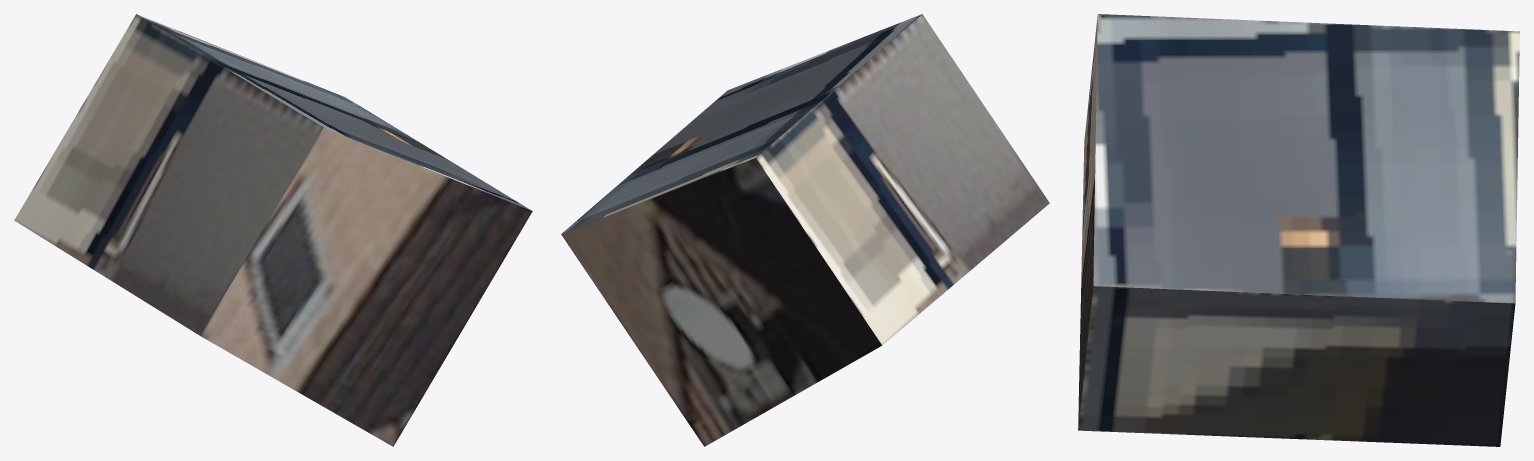
The picture shows the model from 3 angles, left to right: view 1: azimuth 30°, elevation 25°; view 2: azimuth 150°, elevation 25°; view 3: azimuth 270°, elevation 25°; orthographic projection. The views are drawn at different scales.
Parts seen in each view (by area): view 1: BAG_0599100010038677 (×2); view 2: BAG_0599100010038677 (×2); view 3: BAG_0599100010038677 (×2).
Part boxes in pixels (x1=…): BAG_0599100010038677 (×2): x1=14, y1=14, x2=532, y2=446; BAG_0599100010038677 (×2): x1=561, y1=14, x2=1049, y2=446; BAG_0599100010038677 (×2): x1=1078, y1=14, x2=1519, y2=446.
Bounding box in the file's own units: 3.9 × 3.76 × 3.76.
2 materials, 2 textured.
